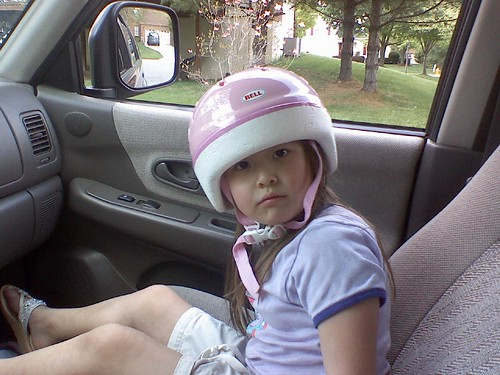helmet: (168, 64, 356, 172)
